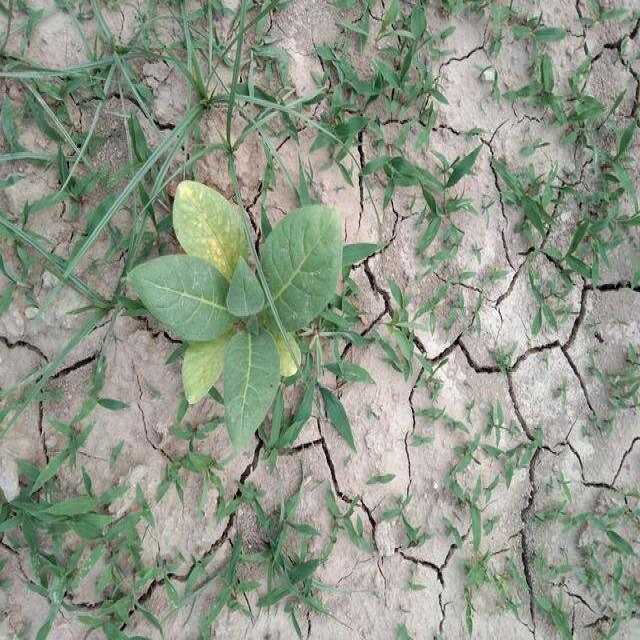crop: (127, 176, 346, 439)
